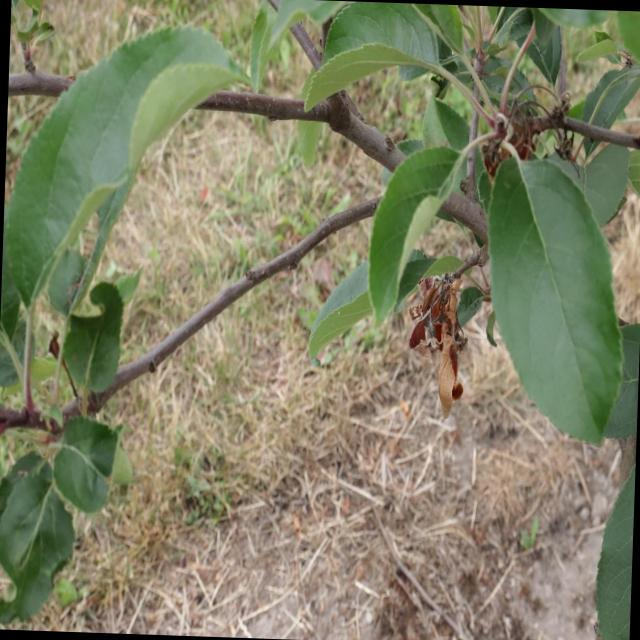-FireBlight-: (402, 243, 486, 438), (468, 75, 574, 182)
